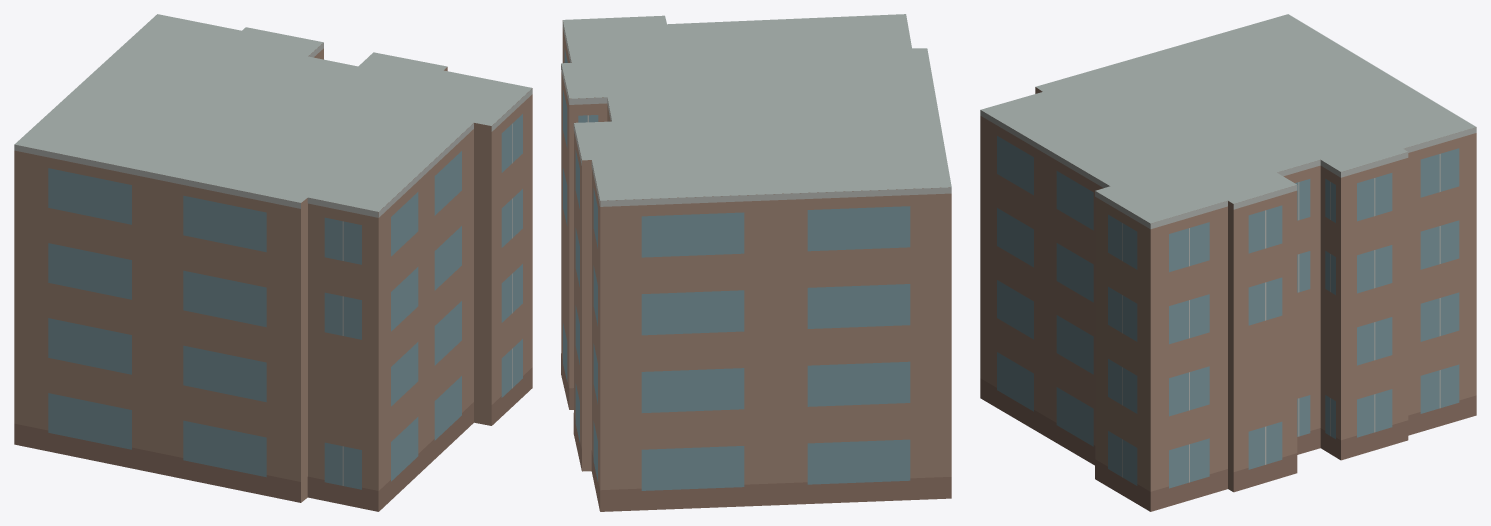
The model's file is survey-upis-32937505.glb.
The picture shows the model from 3 angles, left to right: view 1: azimuth 30°, elevation 25°; view 2: azimuth 150°, elevation 25°; view 3: azimuth 270°, elevation 25°; orthographic projection. The views are drawn at different scales.
Parts seen in each view (by area): view 1: survey-upis-32937505.tmp; view 2: survey-upis-32937505.tmp; view 3: survey-upis-32937505.tmp.
Boxes of the visible parts, box(x1,y1,x2,y2) form: survey-upis-32937505.tmp: box(14, 14, 532, 511); survey-upis-32937505.tmp: box(561, 14, 951, 511); survey-upis-32937505.tmp: box(980, 14, 1476, 511).
Size of the model in its own units: 19.02 by 12.2 by 19.04.
